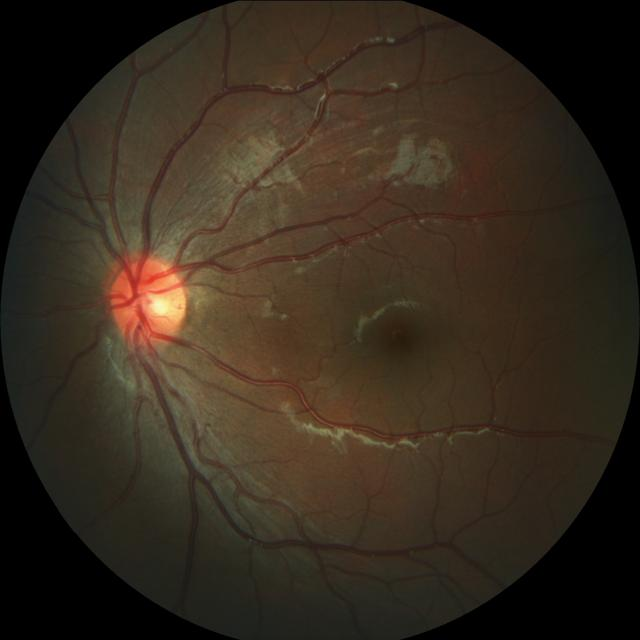OC: (130, 281, 169, 323)
OD: (111, 255, 189, 347)
